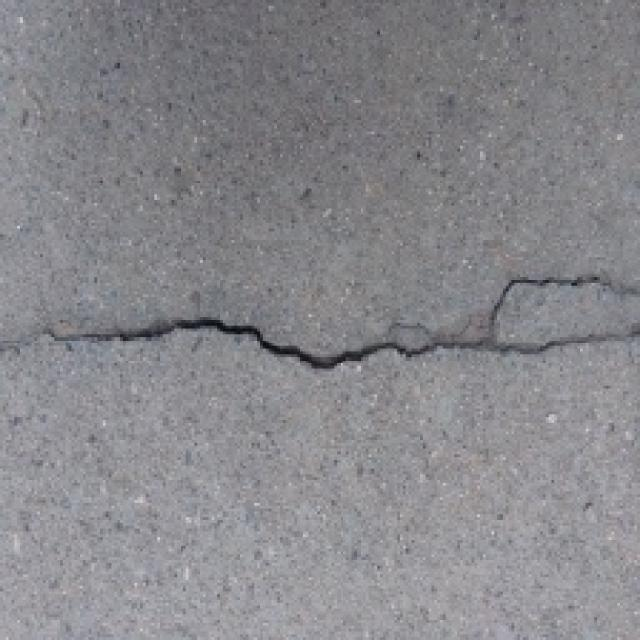SurfaceCrack: (14, 266, 640, 392)
